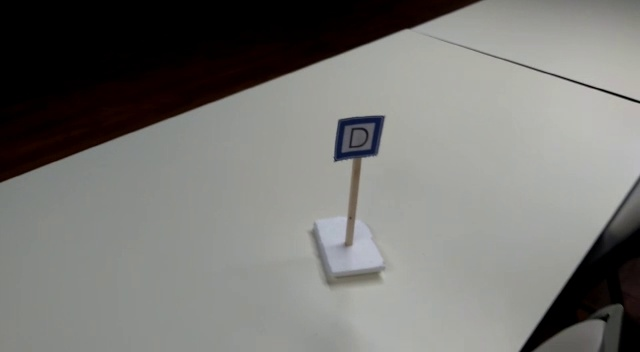durak: (333, 115, 385, 157)
